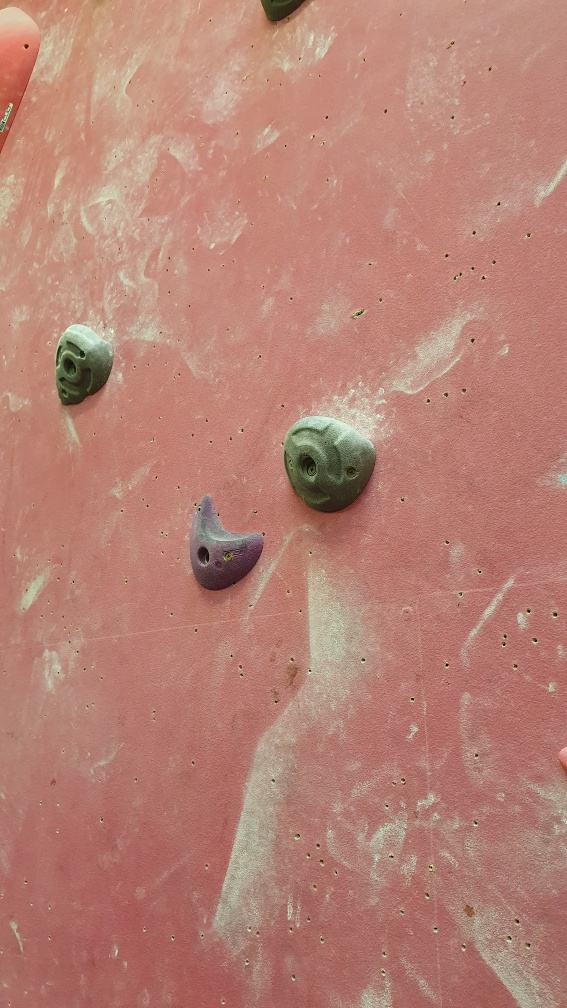Jug: (283, 412, 386, 517), (53, 321, 113, 411)
